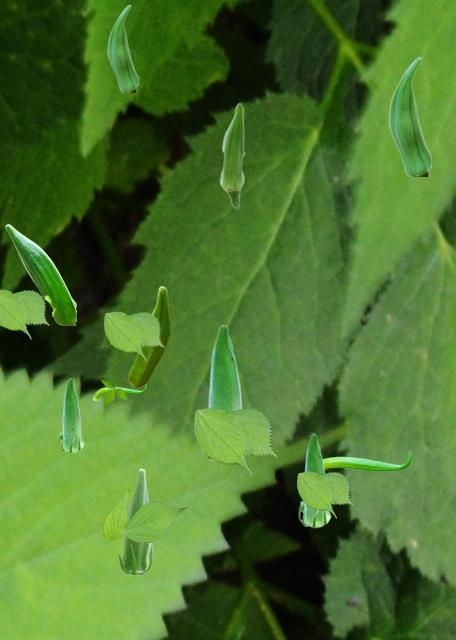okra: (5, 224, 75, 324), (200, 324, 242, 461), (388, 56, 430, 175), (128, 286, 169, 386), (118, 468, 152, 574), (298, 433, 330, 527), (219, 102, 244, 208), (107, 4, 137, 91), (58, 378, 83, 452), (323, 451, 410, 471), (93, 385, 145, 399)
